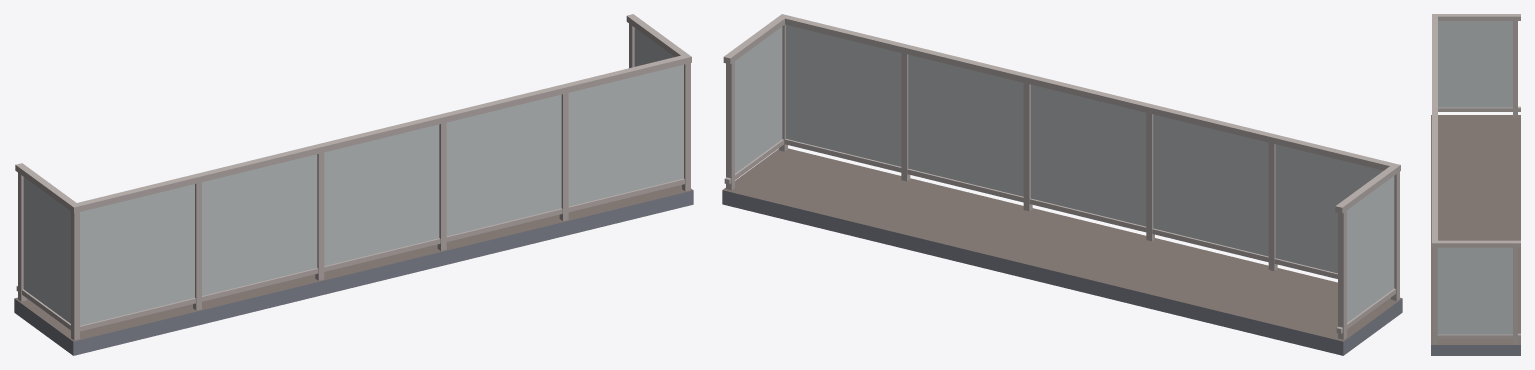
Rendered from SM_Fixture_BalconyFull_AluPanel_546_01.gltf.
3 renders of one model, left to right at view 1: azimuth 30°, elevation 25°; view 2: azimuth 150°, elevation 25°; view 3: azimuth 270°, elevation 25°, orthographic. The views are drawn at different scales.
Visible parts, largest first — view 1: SM_Fixture_BalconyFull_AluPanel_546_01; view 2: SM_Fixture_BalconyFull_AluPanel_546_01; view 3: SM_Fixture_BalconyFull_AluPanel_546_01.
Boxes of the visible parts, box(x1,y1,x2,y2) form: SM_Fixture_BalconyFull_AluPanel_546_01: box(14, 14, 693, 355); SM_Fixture_BalconyFull_AluPanel_546_01: box(722, 14, 1402, 355); SM_Fixture_BalconyFull_AluPanel_546_01: box(1431, 14, 1520, 355).
Size of the model in its own units: 5.45 by 1.24 by 0.9.
1 material, 1 textured.
